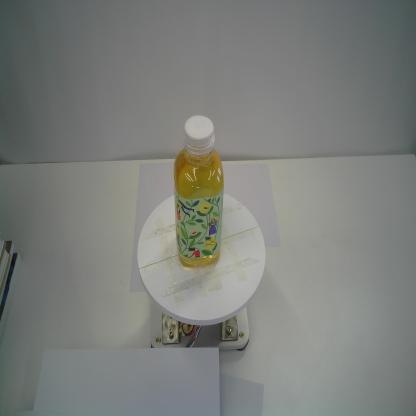Drink: (172, 112, 226, 272)
